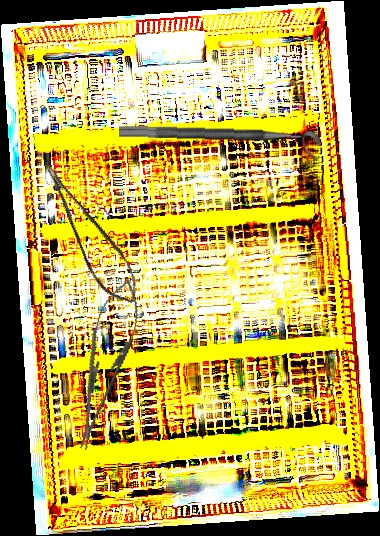Fixation Ring: (118, 124, 321, 161)
Micro Scissor: (42, 154, 146, 314)
Needle Holder: (61, 272, 150, 455)
